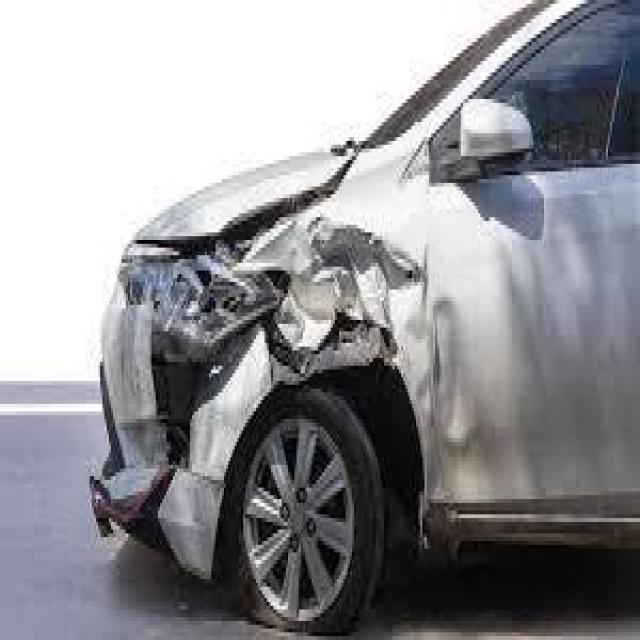damaged: (98, 179, 474, 434), (88, 427, 228, 583)
